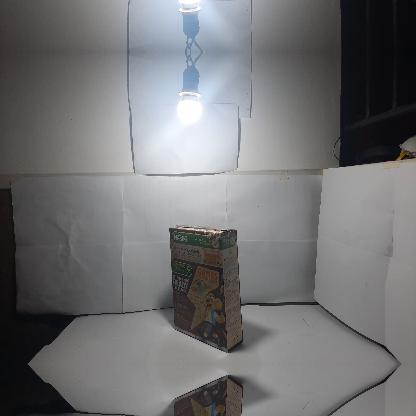Koko-Krunch: (170, 226, 244, 352), (169, 375, 245, 415)
